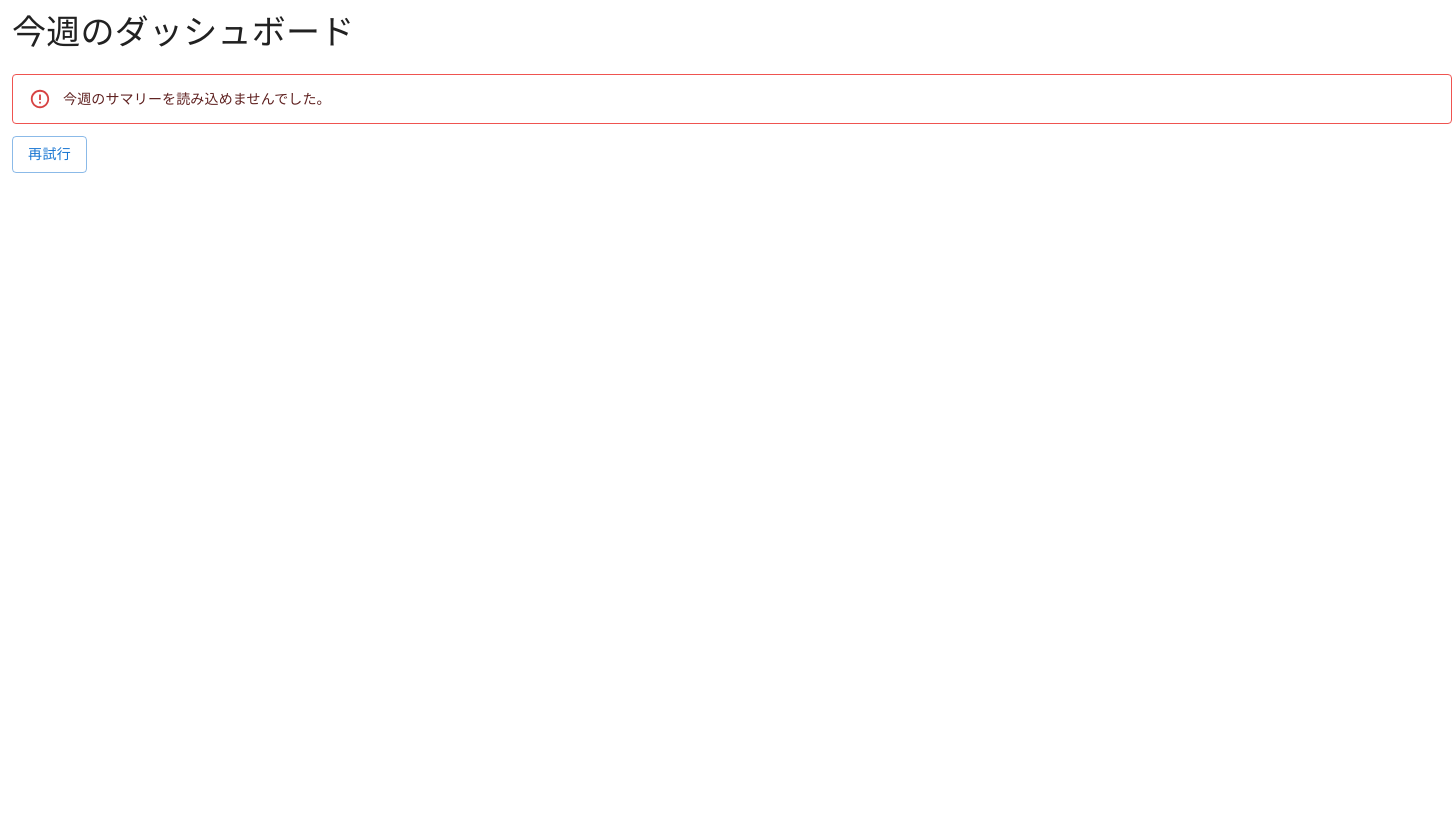
Test: DashboardPage › サマリー取得に失敗しても見出しを残してセクション内エラーと再試行を表示する
Expected: the heading "今週のダッシュボード" is shown, [12, 12, 354, 52]
Expected: the text "今週のサマリーを読み込めませんでした。" is shown, [63, 91, 331, 107]
Click the button "再試行" at (50, 154), box [12, 136, 87, 172]
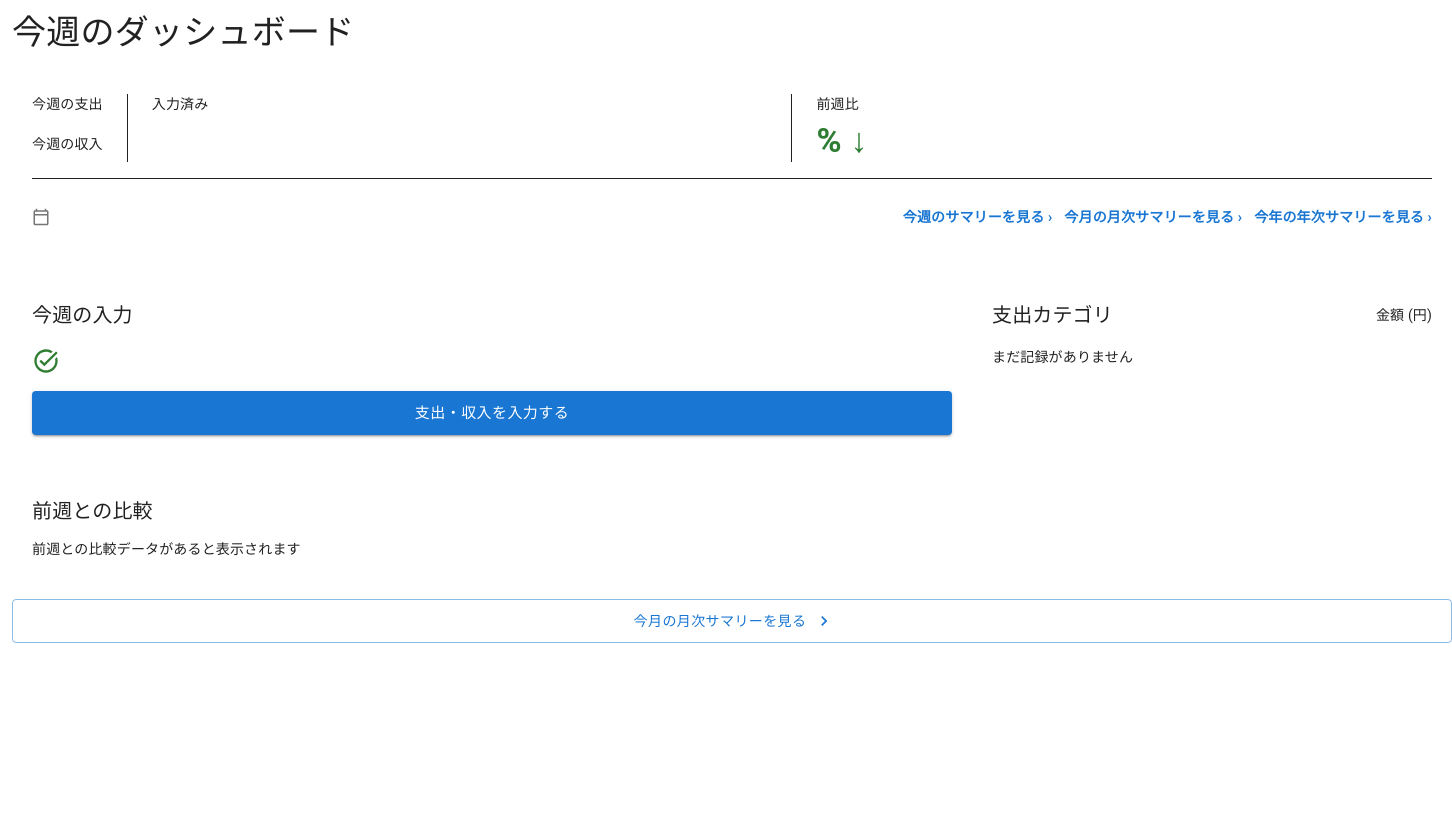
Expected: the text "今週のサマリーを読み込めませんでした。" is gone
